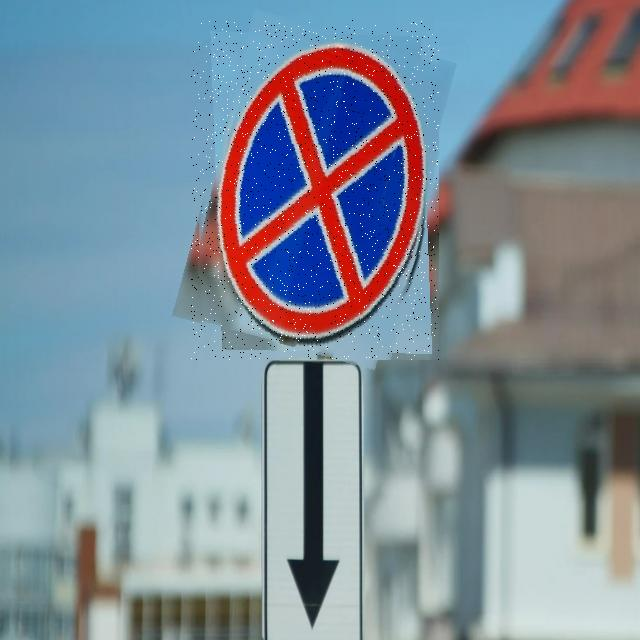no stopping: (191, 20, 439, 360)
